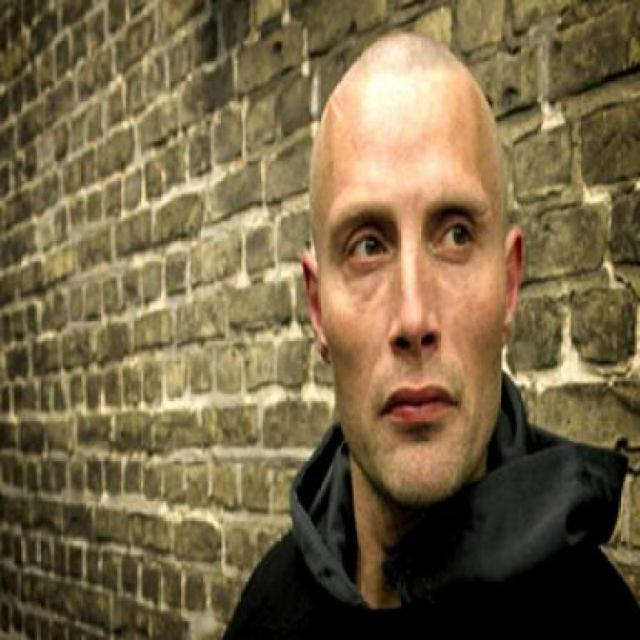no_helmet: (294, 19, 528, 226)
